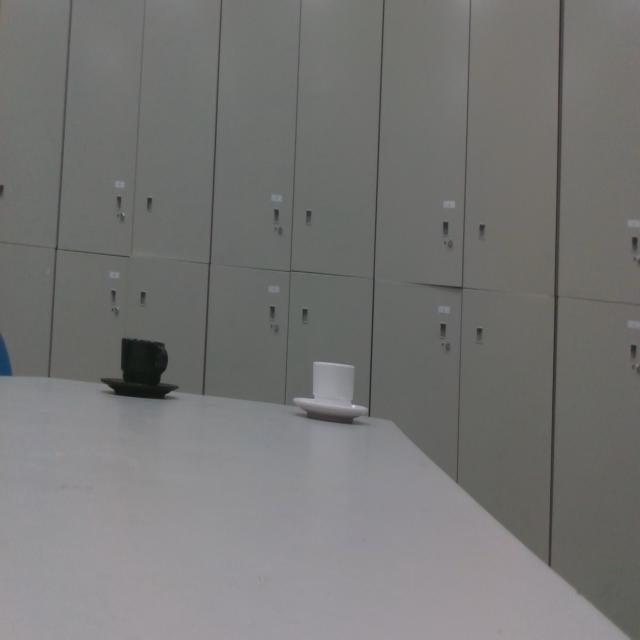black: (99, 336, 179, 405)
white: (292, 350, 368, 423)
